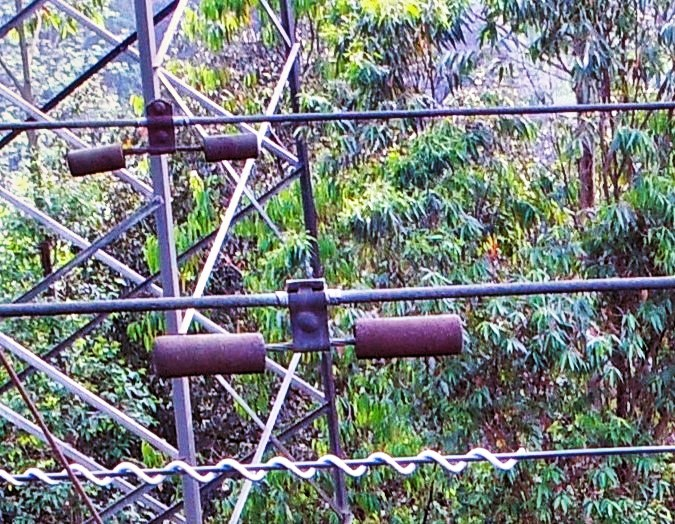Shockproof hammer: (141, 267, 473, 386), (60, 98, 265, 178)
